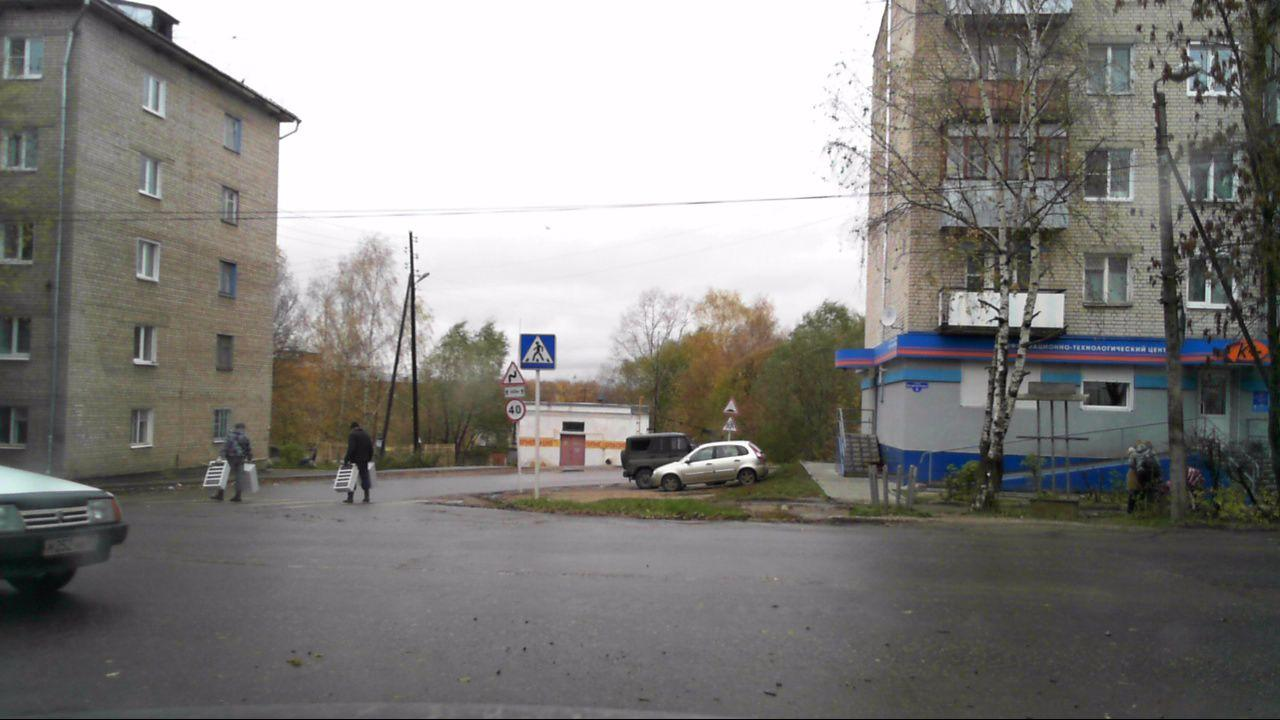1_12_1: (499, 359, 525, 386)
1_17: (722, 397, 739, 415)
1_23: (721, 416, 739, 433)
3_24: (505, 399, 525, 422)
5_19_1: (520, 334, 558, 370)
8_2_1: (503, 386, 526, 399)
